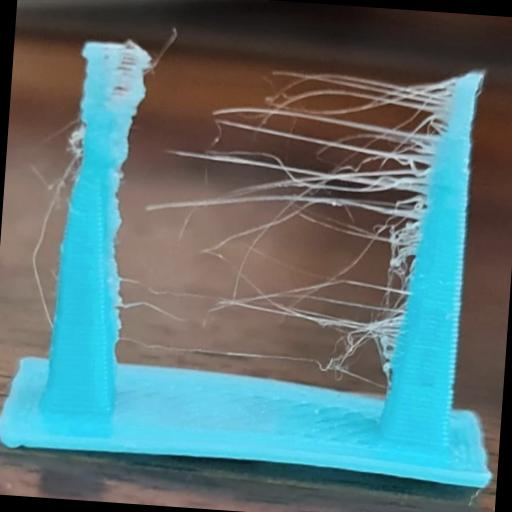stringing: (191, 58, 442, 389)
